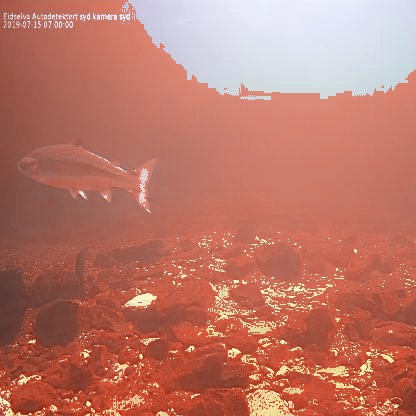salmon: (16, 133, 160, 216)
